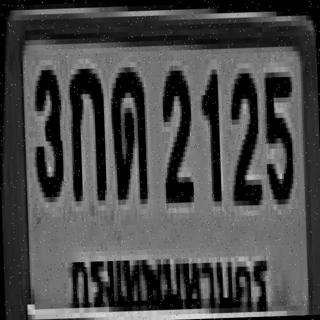A01: (67, 63, 105, 196)
A20: (109, 62, 145, 195)
N01: (198, 64, 220, 196)
N02: (227, 68, 260, 201), (160, 65, 192, 198)
N03: (30, 64, 62, 198)
N05: (262, 67, 294, 200)
P04: (65, 232, 271, 320)
